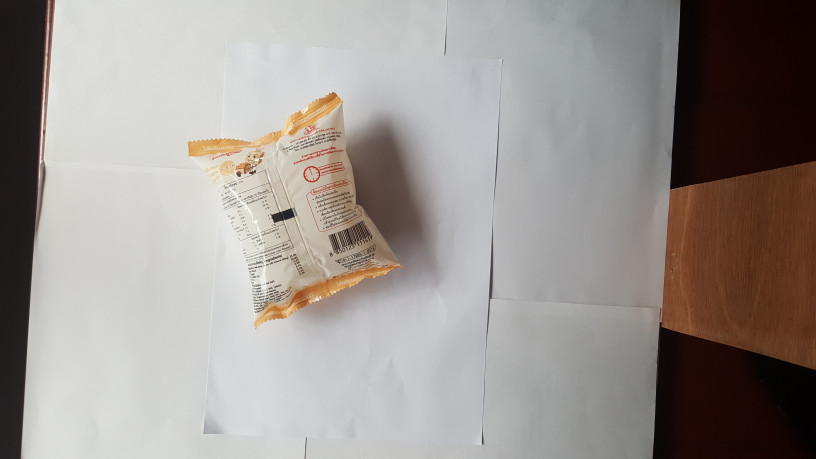farmhouse-sweetsandwich-almond: (177, 86, 415, 337)
